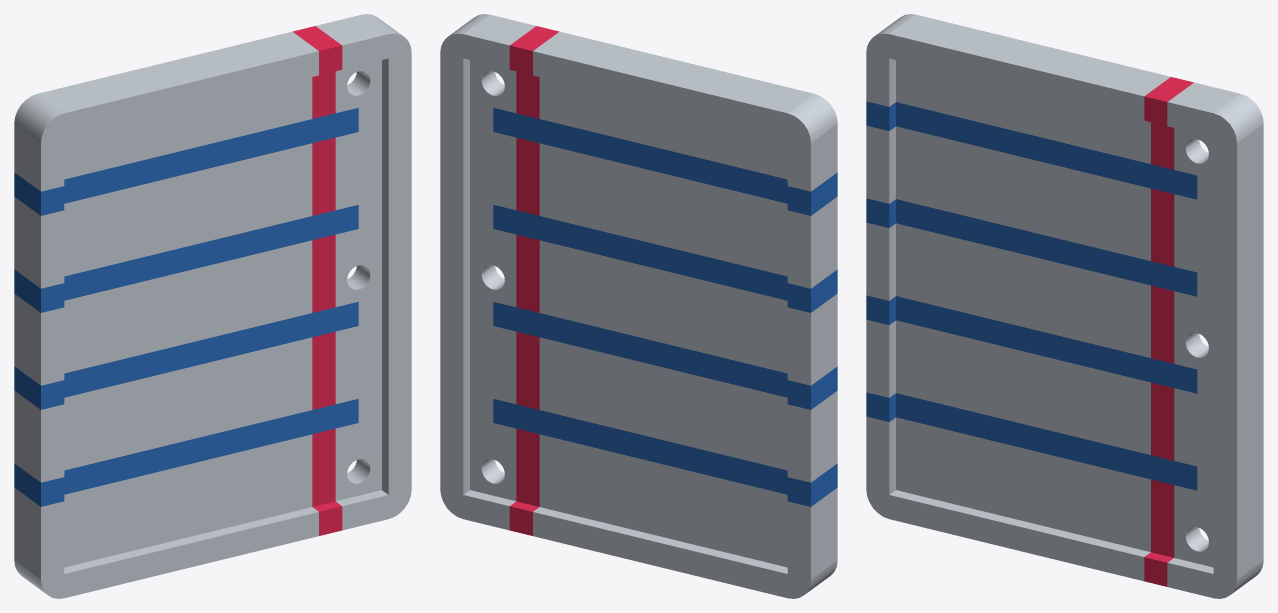
Rendered from Paper2.fbx.
The picture shows the model from 3 angles, left to right: view 1: azimuth 30°, elevation 25°; view 2: azimuth 150°, elevation 25°; view 3: azimuth 330°, elevation 25°; orthographic projection.
Visible parts, largest first — view 1: generated; view 2: generated; view 3: generated.
Part boxes in pixels (bbox=[...]): generated: bbox=[14, 14, 411, 598]; generated: bbox=[440, 14, 837, 598]; generated: bbox=[866, 14, 1263, 598].
Bounding box in the file's own units: 160 × 200 × 20.
